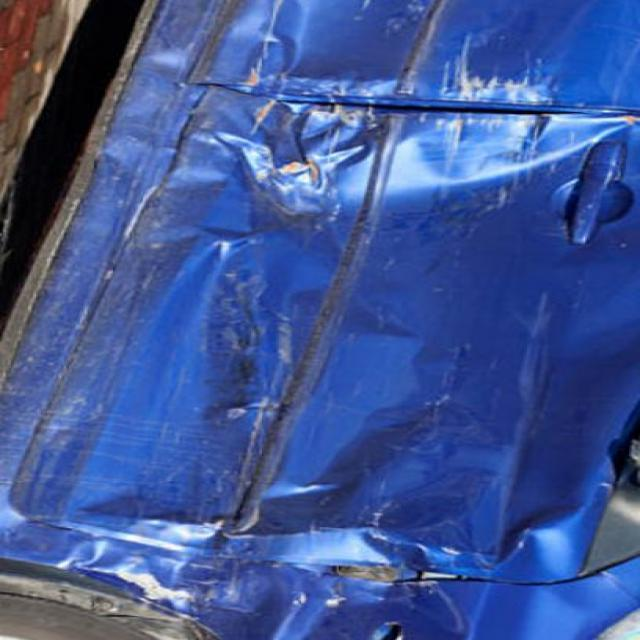dent: (161, 32, 640, 306), (78, 502, 480, 640)
